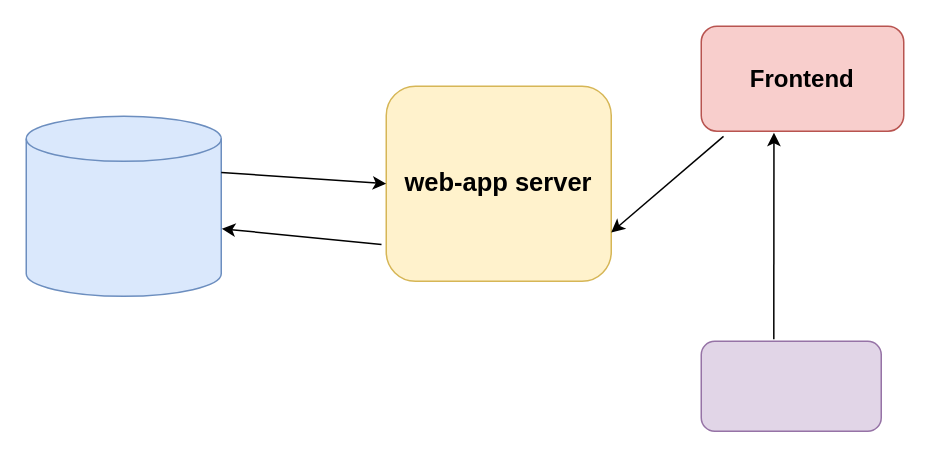
Some shapes in this 930 by 458 pixel diagram are drawn without their labels. The centre of each missing label's shape, as x and y in pixels:
"MongoDB Database" goes at point 123,205.
"User /Client" goes at point 790,385.
